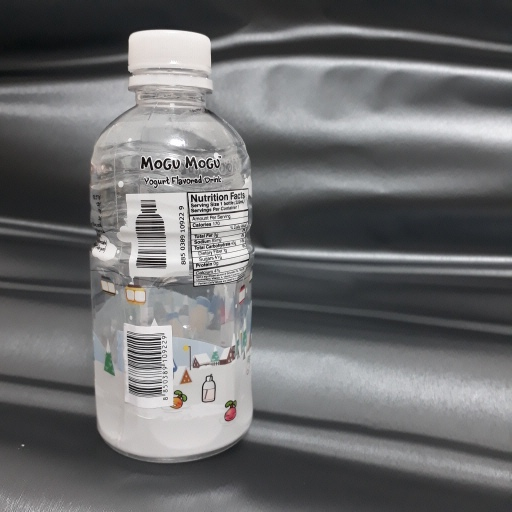Plastic_0: (86, 24, 255, 463)
